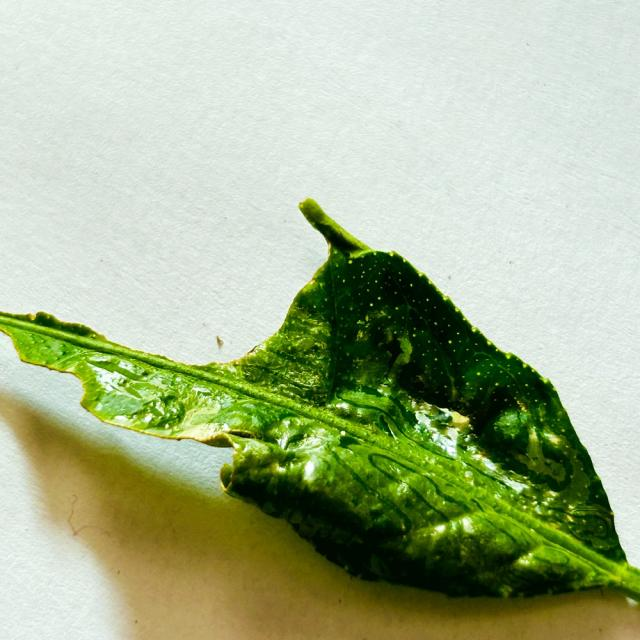Deficiency Leaf: (0, 255, 312, 364), (118, 428, 232, 483), (18, 363, 86, 414)
Lemon: (0, 199, 639, 599)
